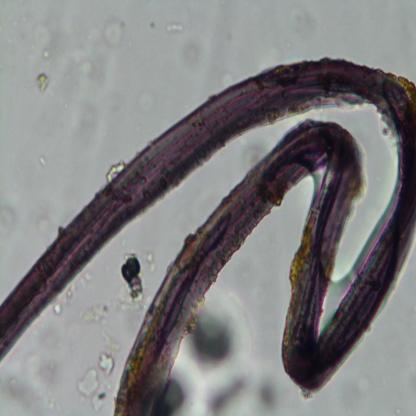Background material: (187, 295, 255, 381), (27, 27, 103, 96), (15, 338, 66, 414), (76, 334, 119, 411), (202, 371, 279, 413), (112, 254, 149, 312), (161, 376, 201, 413), (99, 15, 128, 54), (0, 203, 21, 243), (83, 302, 109, 329), (184, 36, 203, 70), (105, 159, 127, 182), (36, 215, 54, 234), (166, 21, 183, 34), (53, 299, 63, 314), (42, 47, 50, 61), (40, 154, 47, 168)
Microfibre: (0, 57, 416, 415)
